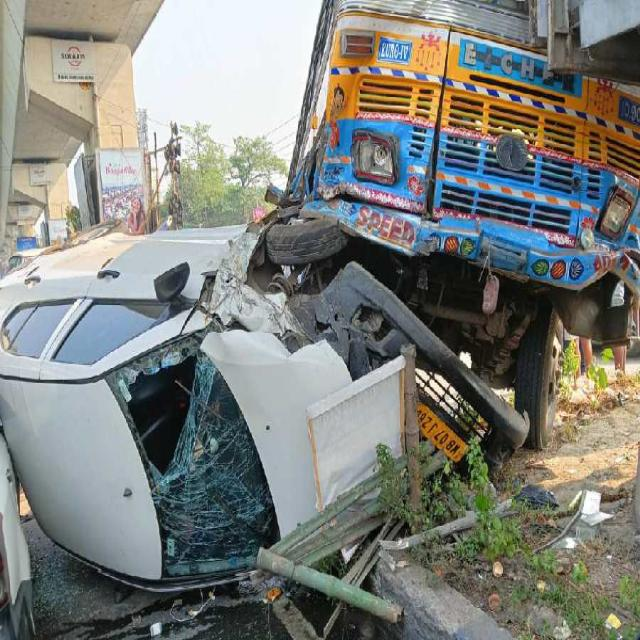accident: (0, 172, 529, 589), (284, 0, 640, 442)
